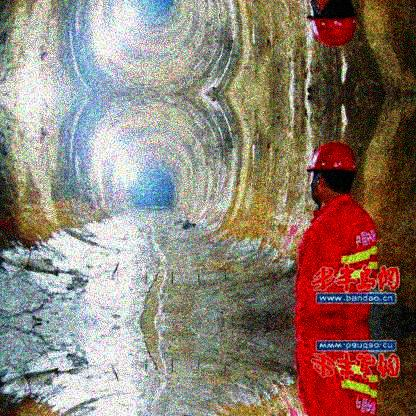helmet: (307, 142, 356, 202)
